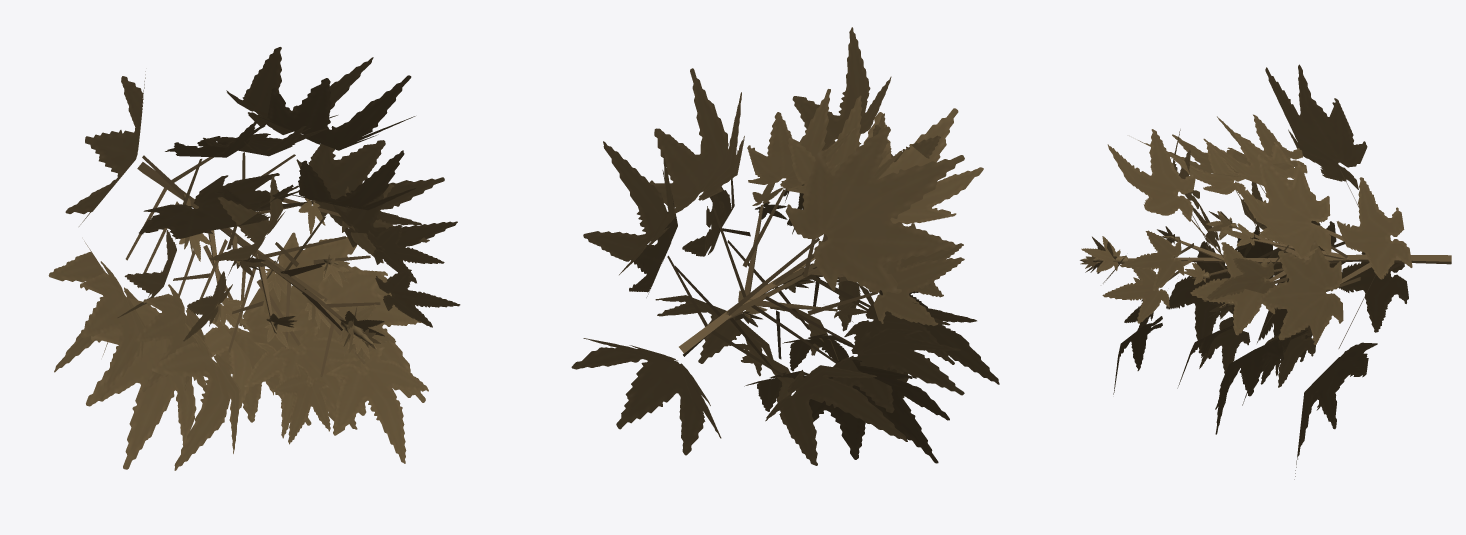
The model's file is p_hybrid_preflower_c3_cards.obj.
3 views of the same model, side by side, from view 1: azimuth 30°, elevation 25°; view 2: azimuth 150°, elevation 25°; view 3: azimuth 270°, elevation 25° (orthographic). The views are drawn at different scales.
Bounding box in the file's own units: 1.39 × 1.35 × 1.16.
1 material, 1 textured.
